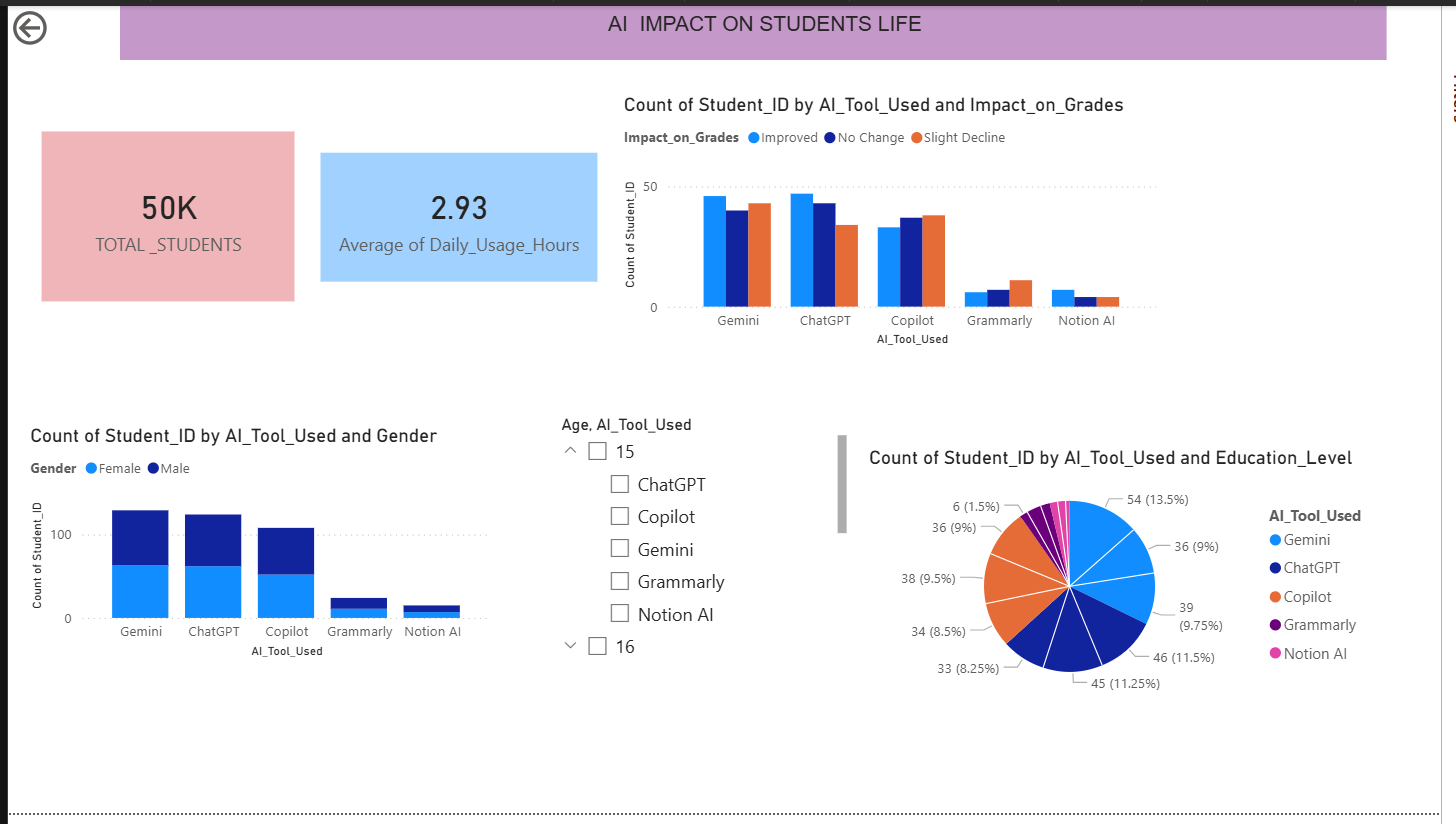

The dashboard page shown, as its layout file describes it:
{"tool":"powerbi","page":{"name":"Page 1","canvas":[1280,720],"ordinal":0},"visuals":[{"type":"actionButton","box":[0,0,100,40],"z":1},{"type":"columnChart","fields":{"Category":["AI_Student_Life_india.AI_Tool_Used"],"Series":["AI_Student_Life_india.Gender"],"Y":["CountNonNull(AI_Student_Life_india.Student_ID)"]},"box":[15,373,421,213],"z":3},{"type":"clusteredColumnChart","fields":{"Category":["AI_Student_Life_india.AI_Tool_Used"],"Series":["AI_Student_Life_india.Impact_on_Grades"],"Y":["CountNonNull(AI_Student_Life_india.Student_ID)"]},"box":[522,78,485,230],"z":4},{"type":"slicer","fields":{"Values":["AI_Student_Life_india.Age","AI_Student_Life_india.AI_Tool_Used"]},"box":[481,360,273,231],"z":6},{"type":"card","fields":{"Values":["Avg(AI_Student_Life_india.Daily_Usage_Hours)"]},"box":[170,110,218,166],"z":7},{"type":"pieChart","fields":{"Category":["AI_Student_Life_india.AI_Tool_Used"],"Series":["AI_Student_Life_india.Education_Level"],"Y":["CountNonNull(AI_Student_Life_india.Student_ID)"]},"box":[764,393,467,230],"z":8},{"type":"textbox","box":[100,0,1131,48],"z":12}]}

Visuals, with their boxes in screenshot pixels (x1, y1, x2, y2), scaled from the page's 1280x720 canvas onto the 1456x824 screenshot:
actionButton: bbox=[0, 0, 114, 46]
columnChart - AI_Student_Life_india.AI_Tool_Used x AI_Student_Life_india.Gender: bbox=[17, 427, 496, 671]
clusteredColumnChart - AI_Student_Life_india.AI_Tool_Used x AI_Student_Life_india.Impact_on_Grades: bbox=[594, 89, 1145, 352]
slicer - AI_Student_Life_india.Age x AI_Student_Life_india.AI_Tool_Used: bbox=[547, 412, 858, 676]
card - Avg(AI_Student_Life_india.Daily_Usage_Hours): bbox=[193, 126, 441, 316]
pieChart - AI_Student_Life_india.AI_Tool_Used x AI_Student_Life_india.Education_Level: bbox=[869, 450, 1400, 713]
textbox: bbox=[114, 0, 1400, 55]
